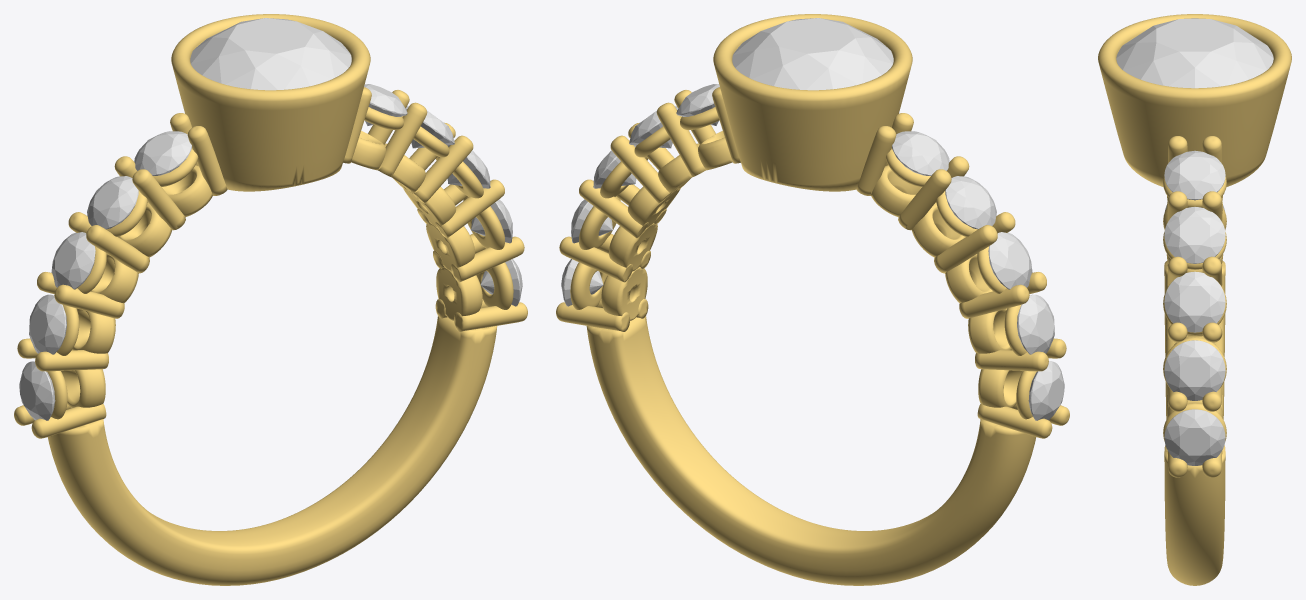
Rendered from diamond-round-yellowgold-bezelset-straightband-5stone.glb.
3 views of the same model, side by side, from view 1: azimuth 30°, elevation 25°; view 2: azimuth 150°, elevation 25°; view 3: azimuth 270°, elevation 25° (orthographic). The views are drawn at different scales.
Visible parts, largest first — view 1: metal, stone, side.006, side.007, side.005, side.008, side.009, side, side.004, side.001, side.003; view 2: metal, stone, side.006, side.007, side.005, side.008, side.009, side, side.004, side.001, side.003; view 3: metal, stone, side.003, side.002, side.001, side.004, side.
Boxes of the visible parts, x1=… form: metal: x1=14, y1=14, x2=527, y2=585; stone: x1=190, y1=18, x2=351, y2=90; side.006: x1=87, y1=176, x2=138, y2=229; side.007: x1=51, y1=232, x2=95, y2=289; side.005: x1=134, y1=131, x2=191, y2=175; side.008: x1=29, y1=294, x2=66, y2=354; side.009: x1=19, y1=361, x2=55, y2=420; side: x1=364, y1=84, x2=407, y2=125; side.004: x1=480, y1=259, x2=522, y2=306; side.001: x1=405, y1=106, x2=454, y2=148; side.003: x1=471, y1=199, x2=512, y2=243; metal: x1=556, y1=14, x2=1069, y2=585; stone: x1=732, y1=18, x2=893, y2=90; side.006: x1=945, y1=176, x2=996, y2=229; side.007: x1=988, y1=232, x2=1032, y2=289; side.005: x1=892, y1=131, x2=949, y2=175; side.008: x1=1017, y1=294, x2=1054, y2=354; side.009: x1=1028, y1=361, x2=1064, y2=420; side: x1=676, y1=84, x2=719, y2=125; side.004: x1=561, y1=259, x2=603, y2=306; side.001: x1=629, y1=106, x2=678, y2=148; side.003: x1=571, y1=199, x2=612, y2=243; metal: x1=1098, y1=14, x2=1291, y2=585; stone: x1=1116, y1=18, x2=1273, y2=88; side.003: x1=1164, y1=340, x2=1225, y2=400; side.002: x1=1164, y1=271, x2=1225, y2=332; side.001: x1=1164, y1=207, x2=1225, y2=263; side.004: x1=1164, y1=409, x2=1225, y2=465; side: x1=1164, y1=150, x2=1225, y2=200.
Size of the model in its own units: 22.63 by 23.81 by 7.94.
